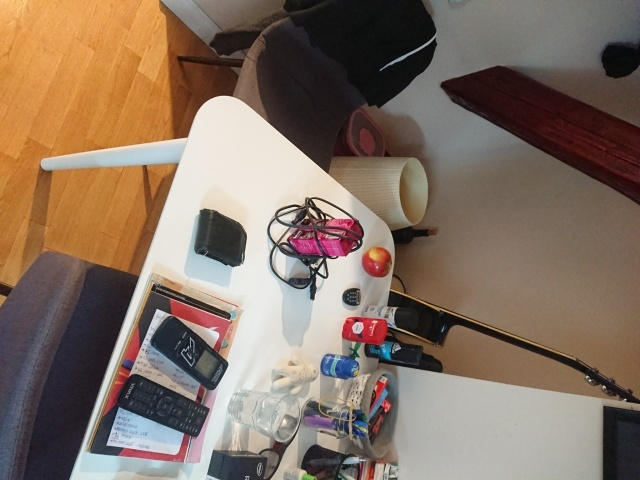Barcaffe Classic Original 225g: (286, 217, 365, 258)
